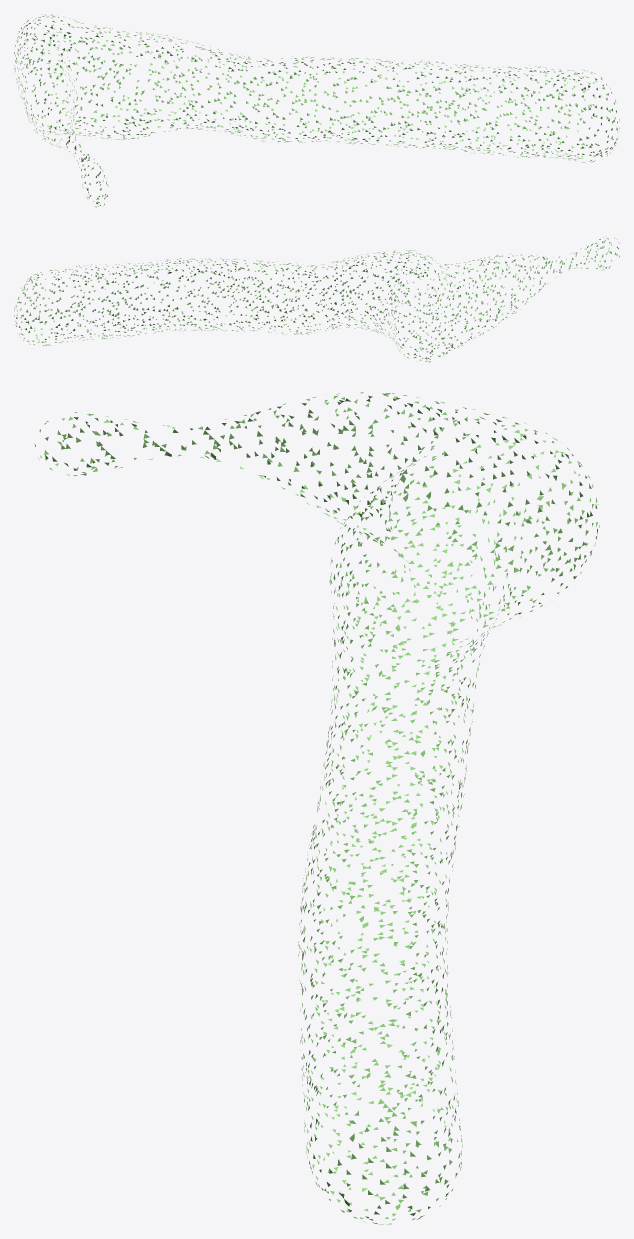
File: morph_015.glb
The picture shows the model from 3 angles, top to bottom: view 1: azimuth 30°, elevation 25°; view 2: azimuth 150°, elevation 25°; view 3: azimuth 270°, elevation 25°; orthographic projection. The views are drawn at different scales.
Bounding box in the file's own units: 145 × 53.09 × 69.3.
